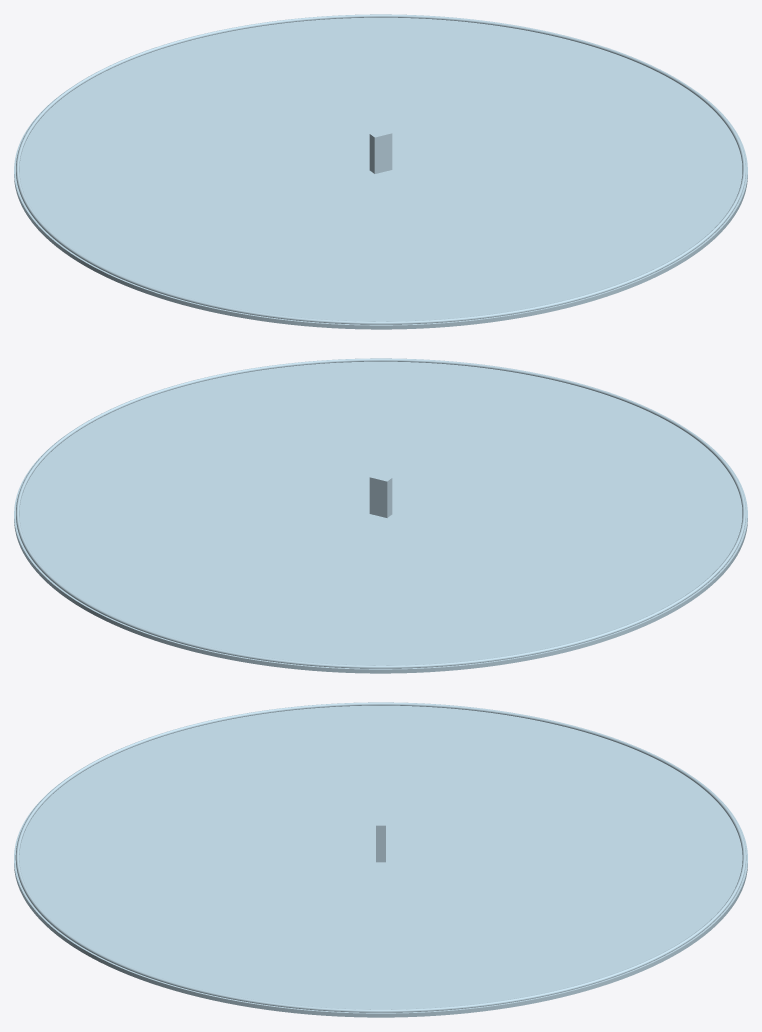
The model's file is solar_array.glb.
The picture shows the model from 3 angles, top to bottom: view 1: azimuth 30°, elevation 25°; view 2: azimuth 150°, elevation 25°; view 3: azimuth 270°, elevation 25°; orthographic projection.
Visible parts, largest first — view 1: Solar disc, Solar rim, Roof console; view 2: Solar disc, Solar rim, Roof console; view 3: Solar disc, Solar rim.
Boxes of the visible parts, bbox=[...] form: Solar disc: bbox=[14, 17, 747, 329]; Solar rim: bbox=[16, 14, 745, 324]; Roof console: bbox=[369, 129, 392, 173]; Solar disc: bbox=[14, 361, 747, 673]; Solar rim: bbox=[16, 358, 745, 668]; Roof console: bbox=[369, 473, 392, 517]; Solar disc: bbox=[14, 705, 747, 1017]; Solar rim: bbox=[15, 702, 746, 1012].
Size of the model in its own units: 20 by 1.23 by 20.
